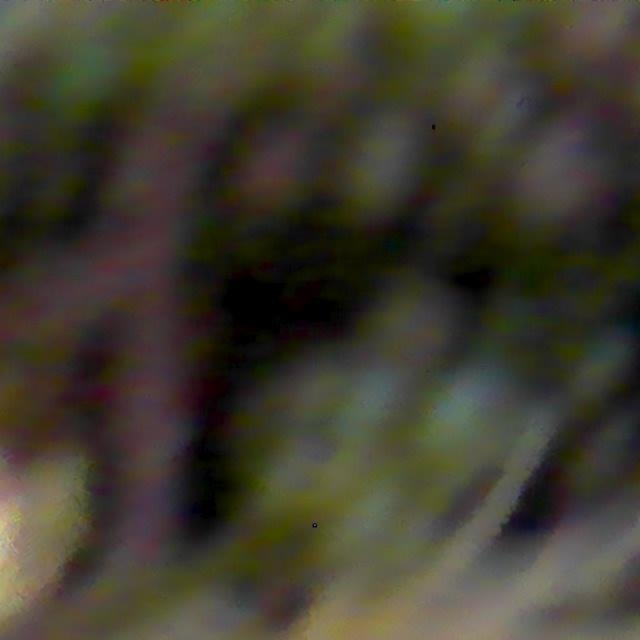SeaGrape: (406, 364, 518, 487), (338, 115, 431, 216), (377, 277, 464, 365), (397, 0, 484, 49)
